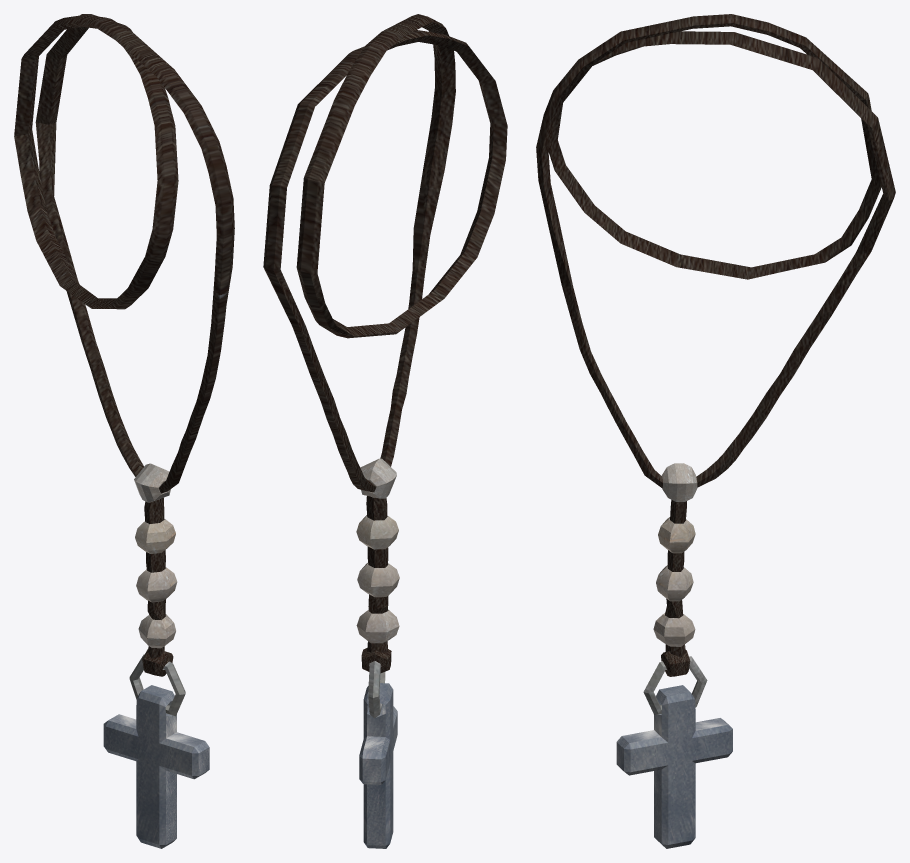
The model's file is Cross_Held.fbx.
The picture shows the model from 3 angles, left to right: view 1: azimuth 30°, elevation 25°; view 2: azimuth 150°, elevation 25°; view 3: azimuth 270°, elevation 25°; orthographic projection. The views are drawn at different scales.
Parts seen in each view (by area): view 1: pTorus3; view 2: pTorus3; view 3: pTorus3.
Boxes of the visible parts, x1=… form: pTorus3: x1=14, y1=14, x2=234, y2=848; pTorus3: x1=263, y1=14, x2=507, y2=848; pTorus3: x1=536, y1=14, x2=895, y2=848.
Bounding box in the file's own units: 2.72 × 20.88 × 8.35.
